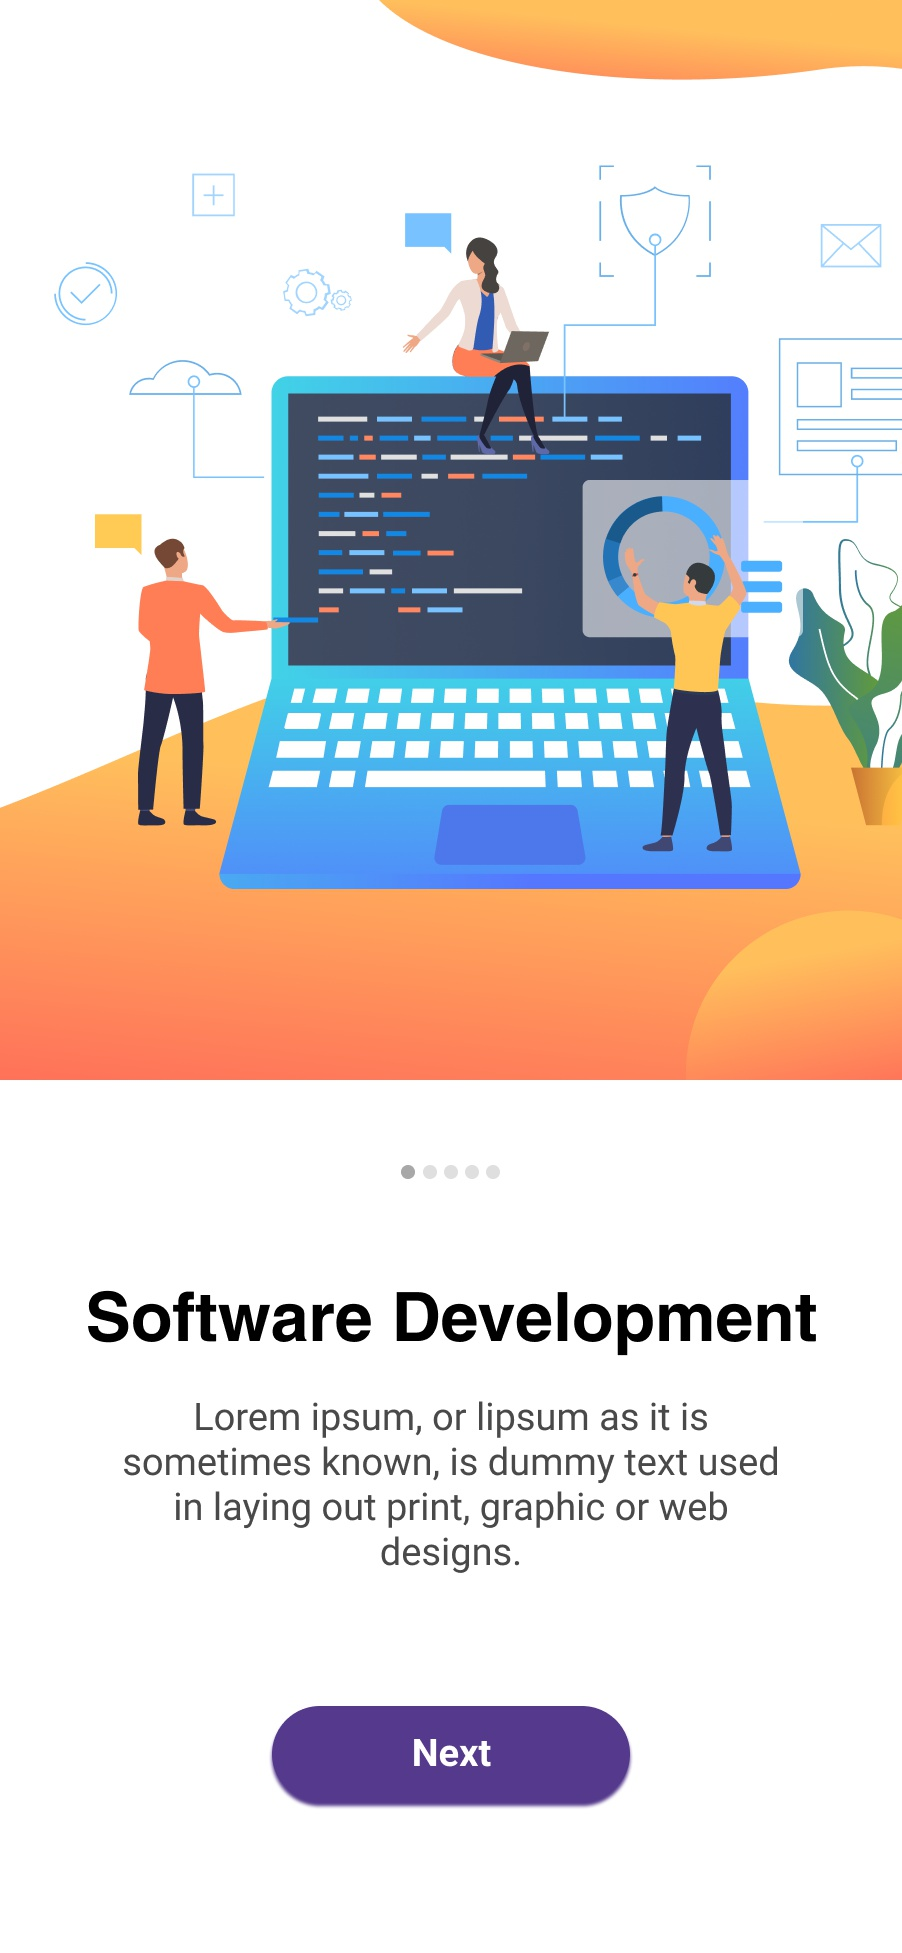Image: (1, 163, 902, 1080)
PageIndicator: (400, 1165, 501, 1181)
Text: (125, 1402, 777, 1573), (88, 1290, 817, 1356)
TextButton: (273, 1706, 630, 1806)
